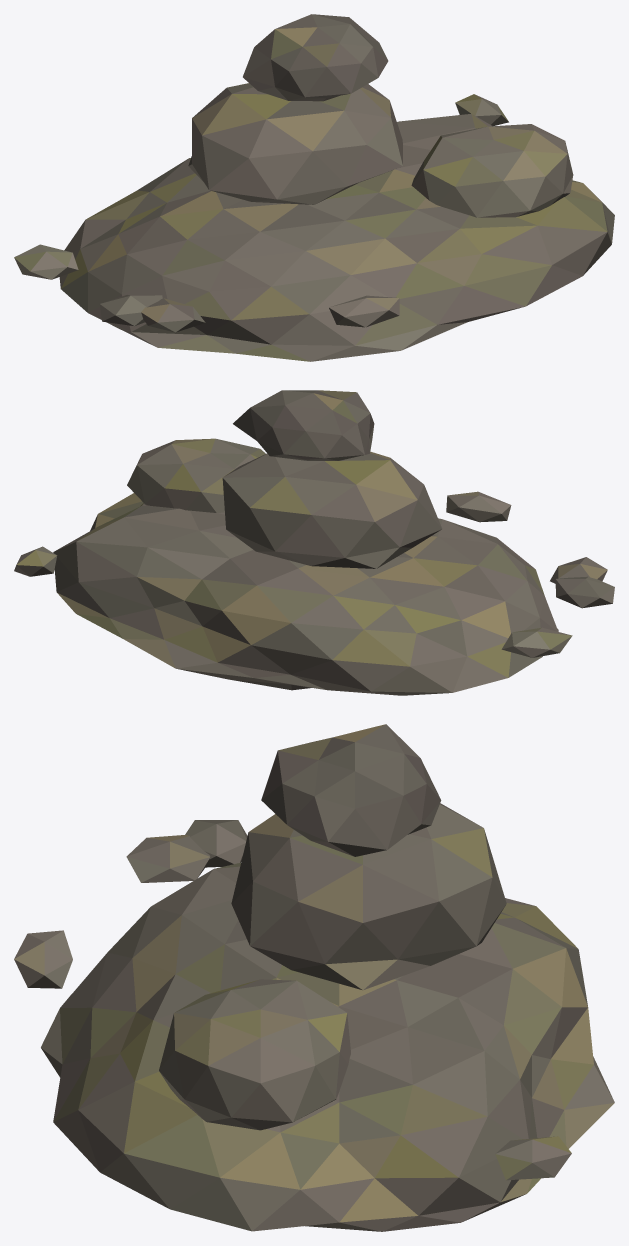
Rendered from env_tor_outcrop.glb.
3 renders of one model, top to bottom at view 1: azimuth 30°, elevation 25°; view 2: azimuth 150°, elevation 25°; view 3: azimuth 270°, elevation 25°, orthographic. The views are drawn at different scales.
Visible parts, largest first — view 1: env_tor_outcrop; view 2: env_tor_outcrop; view 3: env_tor_outcrop.
Boxes of the visible parts, bbox=[...] form: env_tor_outcrop: bbox=[14, 14, 614, 361]; env_tor_outcrop: bbox=[14, 390, 614, 695]; env_tor_outcrop: bbox=[14, 724, 614, 1231].
Size of the model in its own units: 11.03 by 5 by 7.63.
